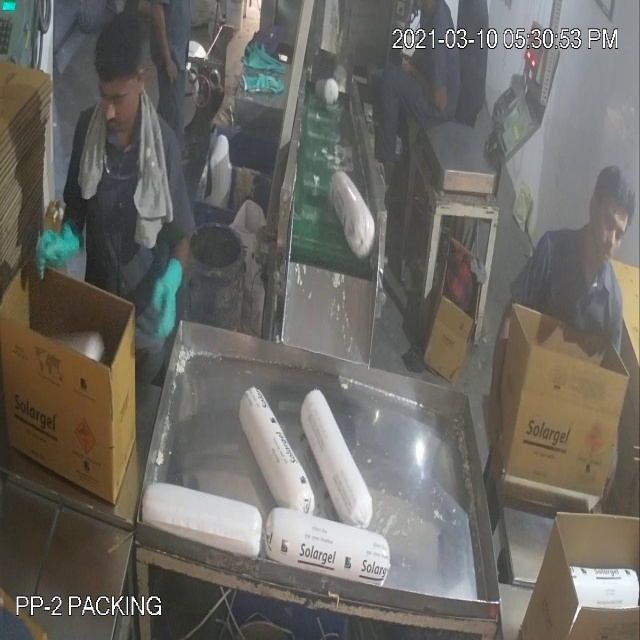Guantes: (25, 199, 88, 291), (148, 236, 191, 348)
Sin_guantes: (485, 282, 521, 473), (143, 1, 188, 92)
